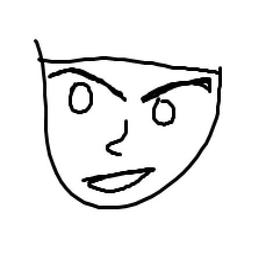empty_eye: (64, 80, 94, 120), (151, 96, 179, 132)
frowning_eyebrow: (46, 65, 128, 105), (138, 75, 216, 103)
nose: (101, 117, 135, 158)
open_mouth: (80, 165, 154, 195)
